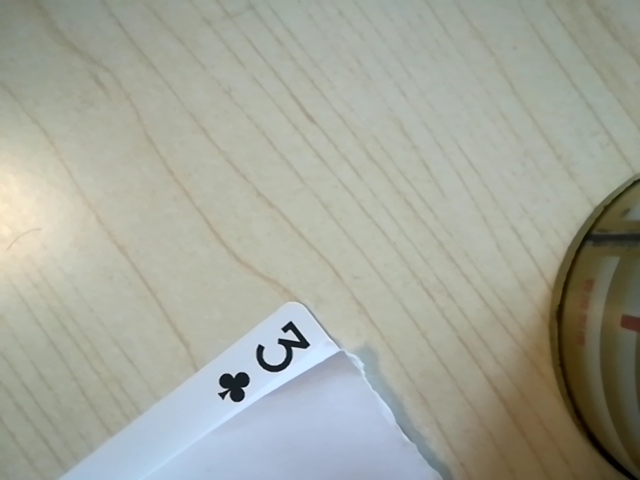mh 3: (209, 312, 325, 412)
